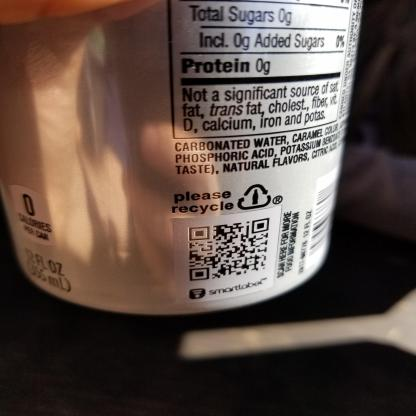barcode: (309, 176, 345, 258)
qr: (178, 218, 271, 279)
